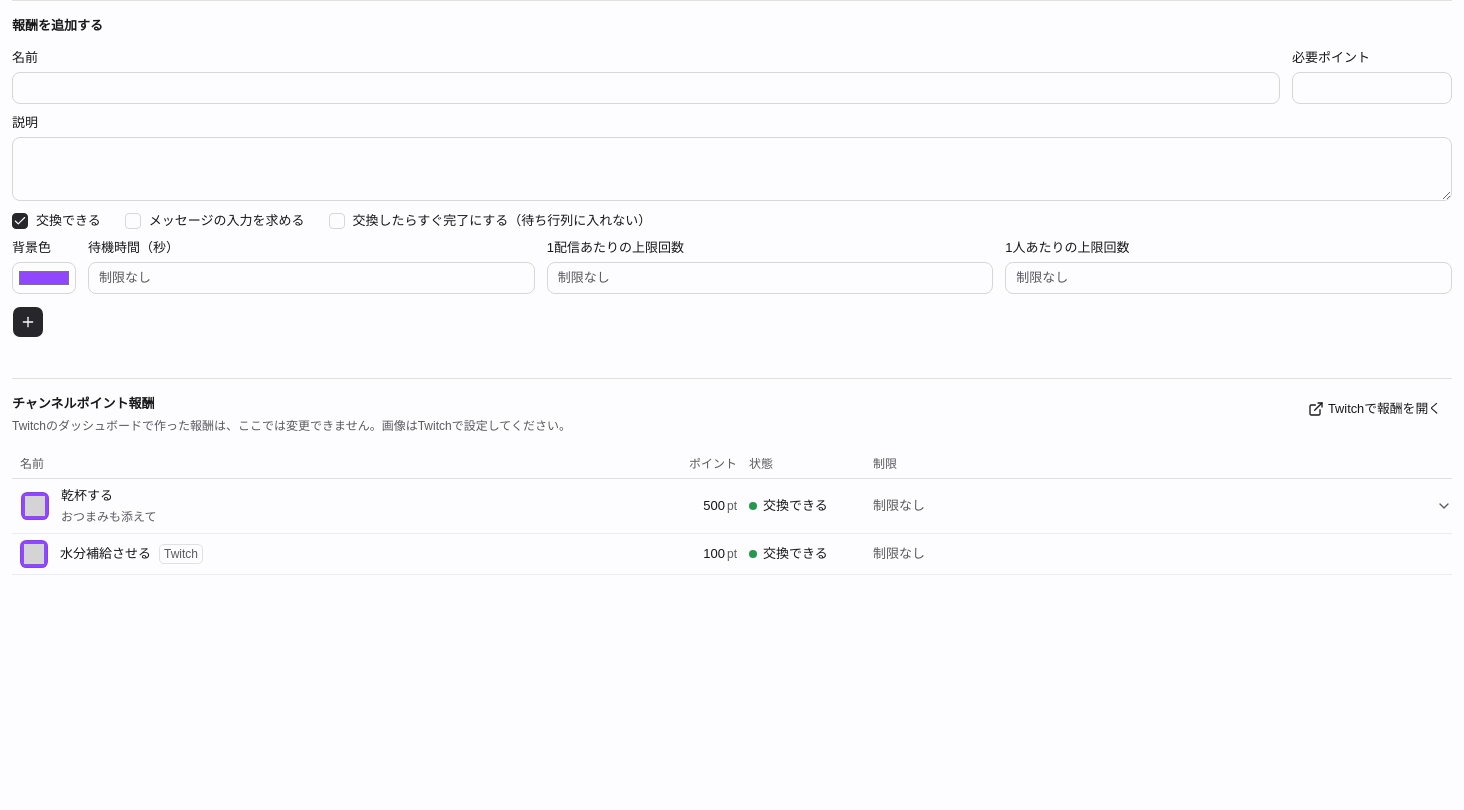
Scenario: 報酬の追加 › Workerが入力の問題点を返したら、欄の名前で並べて出し、入力は残す
Step 1. Type "名前を忘れた" into the text box labelled "説明" → [732, 169], box [12,137,1452,201]
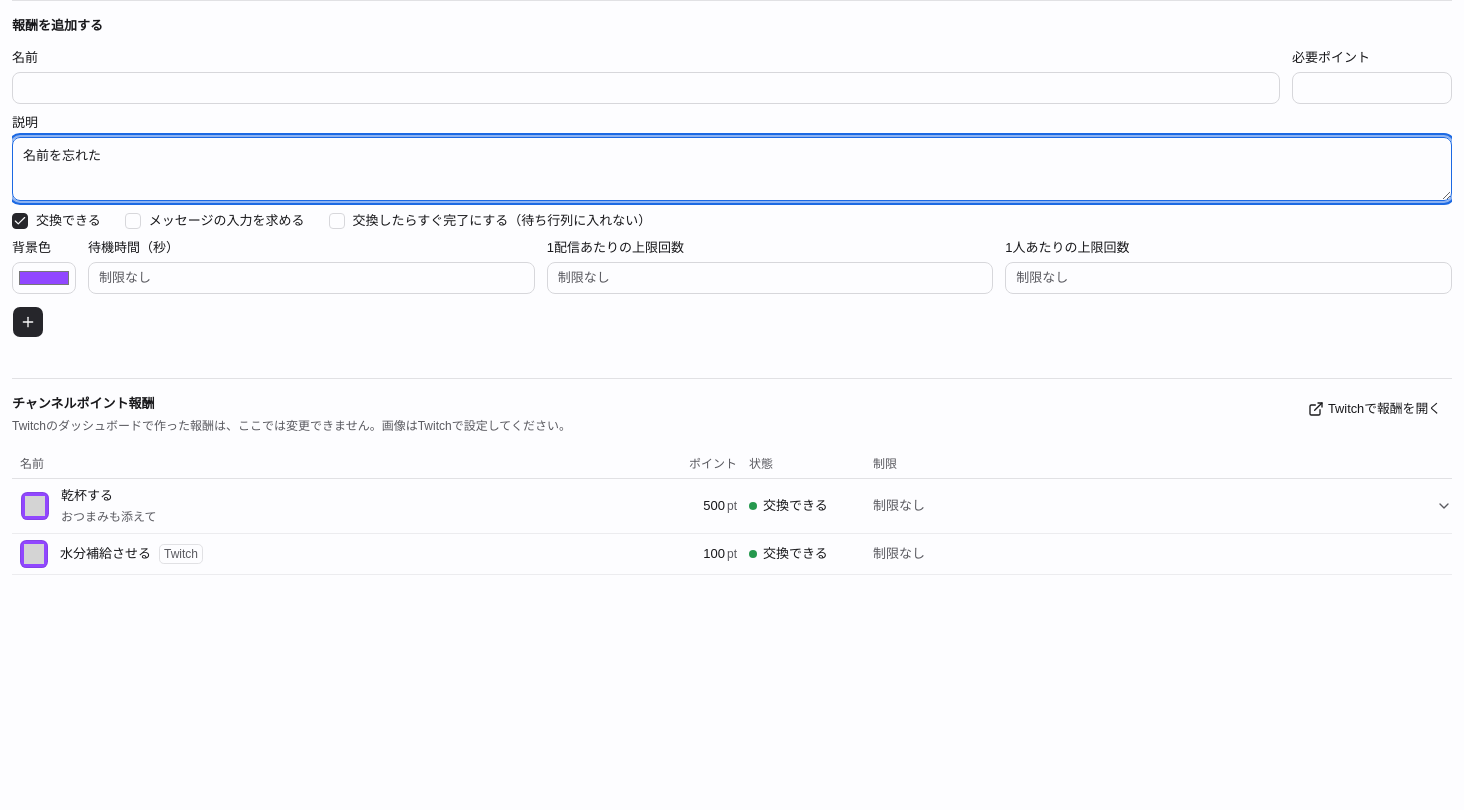
Step 2. Click the button named "報酬を追加する" → [28, 322], box [12,306,44,338]
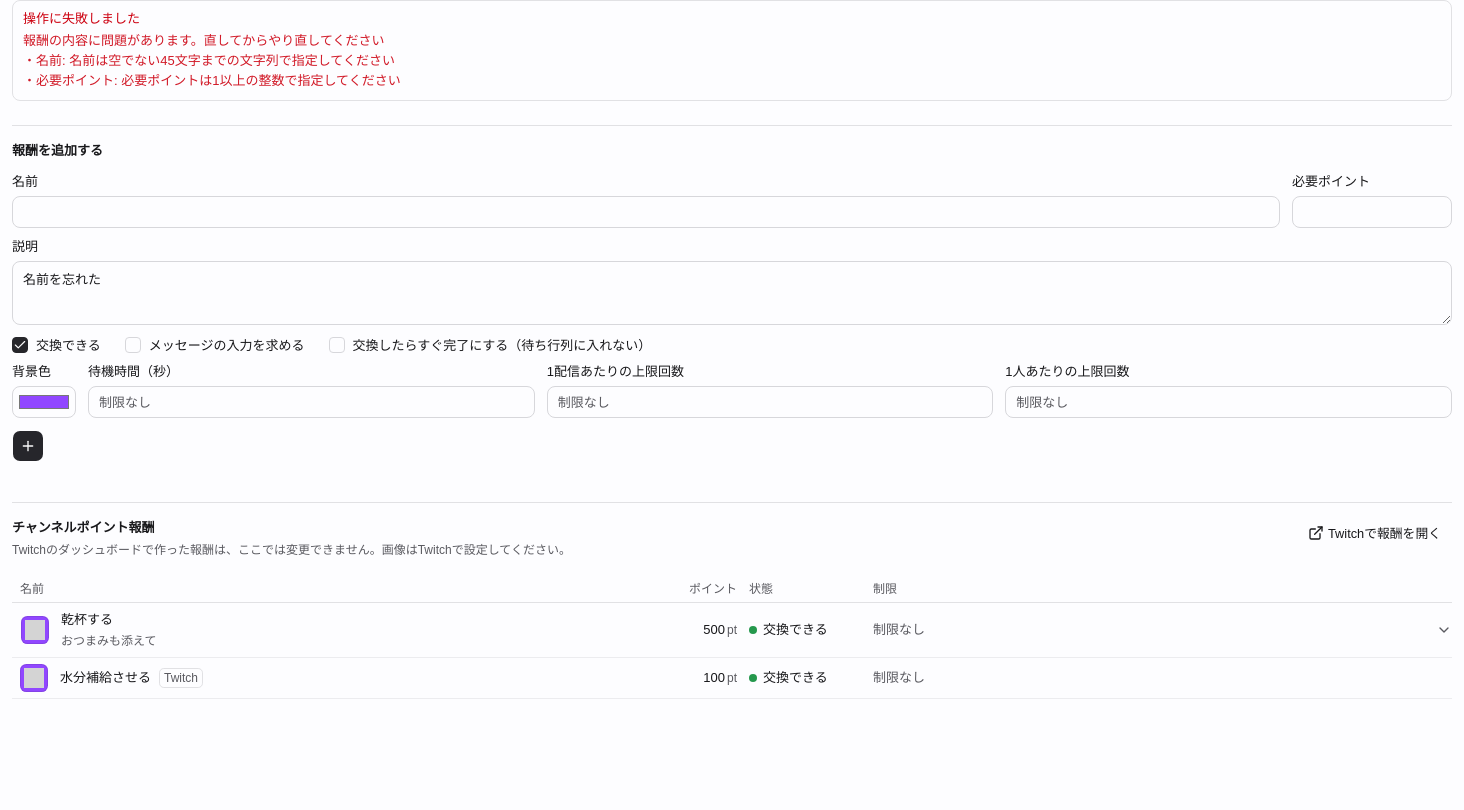
Check: the text "必要ポイント: 必要ポイントは1以上の整数" is shown, box [23,33,401,88]
